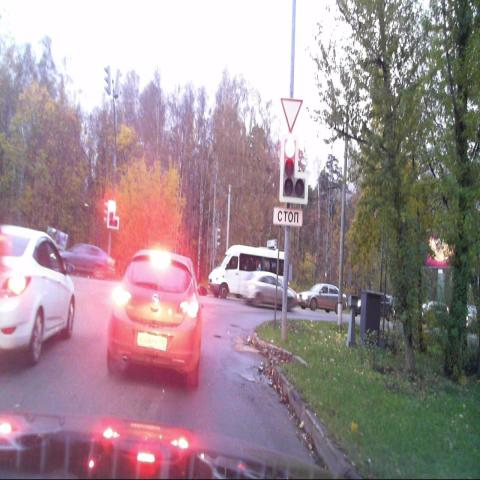6_16: (273, 206, 303, 227)
